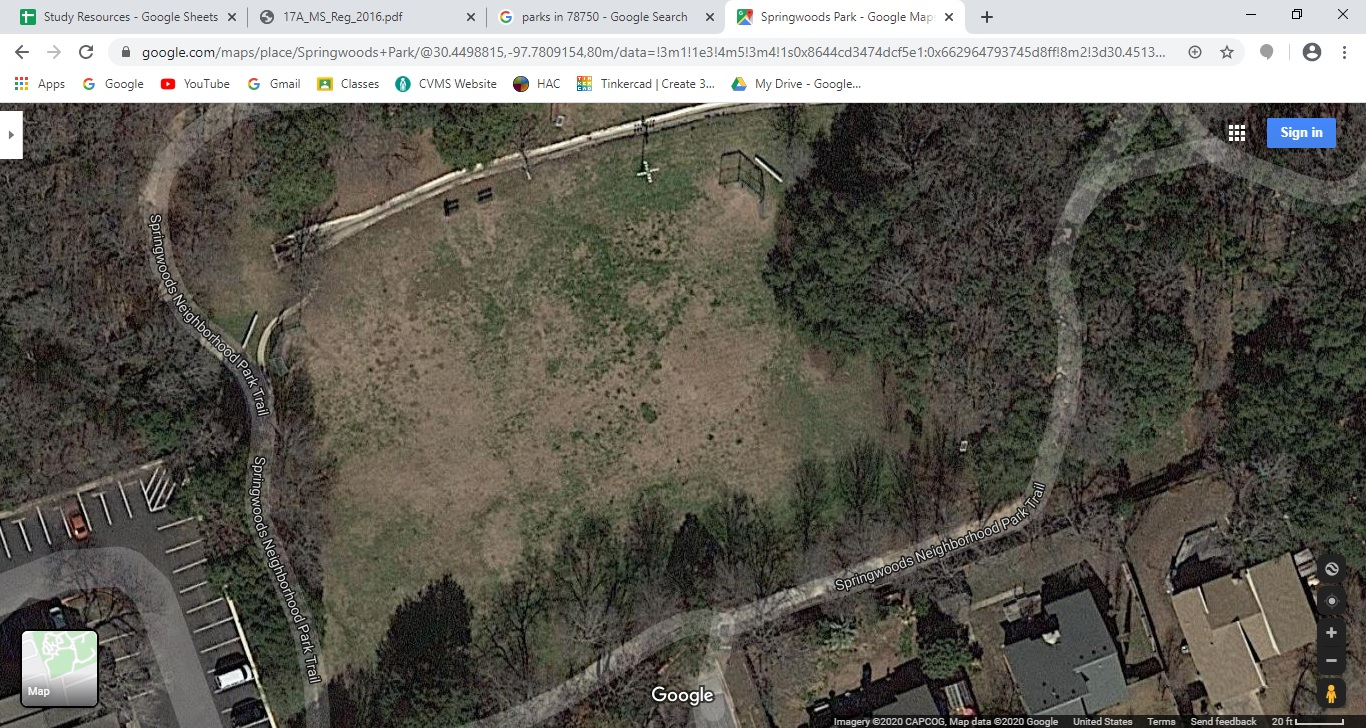soccer: (355, 248, 830, 484)
